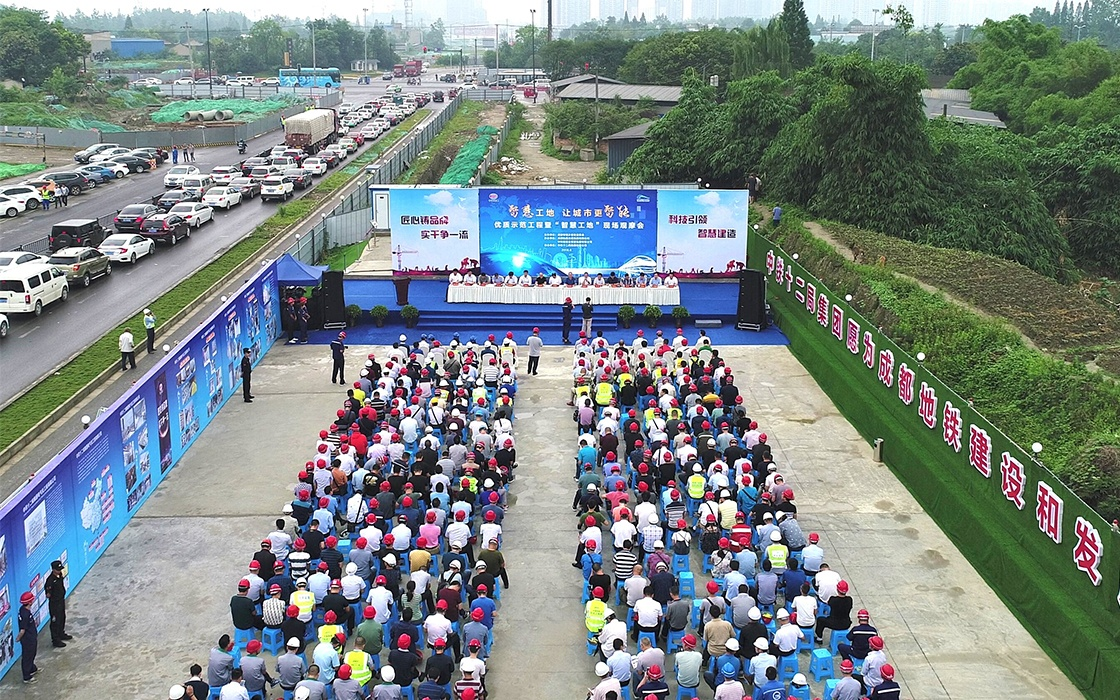blue: (720, 662, 737, 680), (475, 409, 484, 419), (478, 424, 487, 434), (419, 333, 428, 342), (427, 333, 435, 343)
none: (305, 663, 322, 681), (229, 665, 245, 683), (763, 665, 779, 682), (425, 666, 441, 683), (217, 633, 232, 651), (50, 560, 65, 576), (400, 606, 414, 623), (189, 663, 203, 680), (610, 638, 625, 653), (708, 604, 722, 620), (639, 635, 652, 652), (641, 584, 655, 599), (447, 579, 461, 594), (668, 584, 681, 600), (353, 635, 366, 651), (786, 556, 799, 570), (736, 582, 749, 596), (631, 563, 644, 577), (590, 561, 604, 574), (433, 481, 446, 495), (761, 558, 773, 573), (585, 497, 597, 512), (798, 583, 811, 596), (728, 559, 741, 572), (621, 538, 633, 552), (274, 518, 286, 532), (432, 462, 444, 475), (430, 496, 442, 509), (406, 579, 417, 593), (455, 490, 467, 502), (331, 458, 343, 470), (818, 562, 831, 573), (640, 490, 651, 503), (412, 464, 423, 477), (354, 457, 365, 470), (309, 518, 320, 531), (738, 448, 749, 460), (391, 465, 402, 477), (451, 434, 462, 445), (400, 451, 411, 462), (323, 485, 334, 496), (761, 450, 771, 461), (578, 438, 589, 448), (581, 423, 591, 434), (736, 409, 746, 420), (710, 348, 720, 359), (639, 339, 649, 350), (440, 449, 450, 460), (713, 451, 723, 461), (603, 426, 613, 436), (659, 387, 669, 397), (414, 451, 424, 461), (371, 464, 381, 474), (670, 409, 679, 420), (721, 405, 730, 416), (346, 388, 355, 399), (242, 347, 251, 358), (595, 329, 604, 339), (697, 329, 706, 338), (675, 350, 684, 359), (583, 398, 591, 408), (424, 439, 432, 449), (702, 338, 710, 347), (617, 338, 625, 347), (662, 337, 670, 346), (412, 341, 420, 350), (396, 378, 404, 387), (455, 397, 463, 405), (392, 341, 399, 350)
red: (866, 635, 884, 653), (878, 663, 895, 682), (395, 632, 412, 650), (18, 591, 35, 609), (337, 663, 353, 682), (680, 634, 697, 651), (246, 639, 263, 656), (322, 609, 338, 626), (285, 604, 301, 620), (704, 579, 719, 596), (780, 487, 795, 504), (331, 632, 346, 649), (433, 598, 448, 615), (839, 658, 853, 676), (647, 663, 661, 681), (471, 606, 485, 624), (467, 638, 481, 656), (483, 509, 498, 525), (271, 560, 286, 576), (237, 578, 251, 595), (433, 636, 447, 653), (363, 604, 376, 622), (414, 535, 429, 550), (856, 608, 870, 624), (590, 585, 604, 601), (374, 573, 388, 589), (329, 577, 342, 594), (807, 531, 821, 546), (382, 533, 396, 548), (354, 535, 368, 550), (836, 580, 849, 596), (716, 535, 729, 551), (268, 583, 281, 599), (476, 583, 489, 599), (636, 462, 650, 476), (453, 509, 467, 523), (367, 497, 381, 511), (247, 560, 261, 574), (737, 535, 750, 550), (584, 538, 597, 553), (704, 512, 717, 527), (733, 510, 746, 524), (759, 491, 772, 505), (487, 491, 500, 505), (364, 513, 377, 527), (297, 488, 310, 502), (316, 560, 329, 574), (618, 507, 630, 522), (676, 517, 688, 532), (293, 537, 305, 552), (584, 515, 597, 528), (604, 450, 617, 463), (316, 442, 329, 455), (396, 514, 409, 527), (324, 535, 337, 548), (487, 536, 500, 549), (425, 511, 437, 525), (379, 480, 391, 494), (740, 475, 752, 488), (740, 462, 752, 475), (668, 489, 680, 502), (338, 443, 351, 455), (376, 454, 388, 467), (486, 457, 498, 470), (459, 477, 471, 490), (297, 470, 309, 483), (318, 496, 330, 509), (637, 481, 649, 493), (390, 431, 402, 443), (773, 473, 784, 486), (614, 479, 625, 492), (700, 419, 711, 432), (757, 431, 768, 444), (474, 439, 485, 452), (502, 438, 513, 451), (260, 538, 271, 551), (704, 490, 715, 502), (712, 463, 723, 475), (609, 465, 621, 476), (662, 451, 673, 463), (641, 449, 652, 461), (686, 452, 698, 463), (582, 461, 593, 473), (719, 421, 730, 433), (628, 421, 639, 433), (318, 429, 329, 441), (465, 451, 476, 463), (462, 465, 474, 476), (403, 482, 414, 494), (304, 460, 315, 472), (402, 495, 412, 508), (633, 439, 644, 450), (748, 420, 759, 431), (646, 398, 657, 409), (668, 398, 679, 409), (598, 373, 609, 384), (335, 408, 346, 419), (379, 420, 390, 431), (328, 423, 339, 434), (728, 436, 738, 448), (734, 394, 744, 406), (389, 407, 399, 419), (373, 433, 383, 445), (316, 458, 326, 470), (666, 479, 677, 489), (659, 438, 669, 449), (682, 435, 692, 446), (627, 408, 637, 419), (688, 383, 698, 394), (714, 398, 724, 409), (607, 396, 617, 407), (620, 364, 630, 375), (675, 327, 685, 338), (476, 397, 486, 408), (350, 422, 360, 433), (360, 408, 370, 419), (339, 433, 349, 444), (645, 386, 655, 396), (682, 375, 692, 385), (575, 377, 585, 387), (639, 368, 649, 378), (677, 422, 686, 433), (652, 407, 661, 418), (701, 375, 710, 386), (723, 365, 732, 376), (615, 349, 624, 360), (596, 358, 605, 369), (420, 367, 429, 378), (394, 387, 403, 398), (410, 395, 419, 406), (343, 399, 352, 410), (695, 405, 704, 415), (680, 367, 690, 376), (690, 348, 699, 358), (577, 358, 586, 368), (596, 339, 605, 349), (623, 377, 632, 387), (487, 333, 496, 343), (408, 352, 417, 362), (501, 396, 510, 406), (399, 367, 408, 377), (403, 408, 412, 418), (390, 399, 400, 408), (299, 296, 308, 306), (725, 375, 733, 386), (432, 339, 440, 350), (654, 360, 663, 369), (501, 360, 510, 369), (457, 388, 466, 397), (367, 352, 376, 361), (377, 381, 386, 390), (353, 381, 362, 390), (385, 360, 394, 369), (414, 387, 423, 396), (433, 389, 442, 398), (660, 367, 668, 377), (636, 329, 644, 339), (580, 337, 588, 347), (532, 326, 540, 336), (505, 330, 513, 340), (447, 350, 455, 360), (462, 364, 470, 374), (338, 331, 346, 341), (703, 366, 711, 375), (656, 349, 664, 358), (578, 330, 586, 339), (488, 357, 496, 366), (466, 350, 474, 359), (287, 296, 295, 305), (503, 368, 511, 376), (464, 357, 472, 365), (681, 338, 688, 347)
white: (745, 604, 762, 624), (752, 636, 770, 654), (379, 664, 395, 684), (594, 660, 610, 679), (285, 636, 301, 655), (167, 684, 186, 700), (776, 606, 791, 626), (724, 637, 739, 656), (461, 660, 476, 678), (293, 575, 308, 591), (602, 607, 616, 623), (382, 553, 396, 569), (769, 529, 782, 545), (652, 538, 665, 554), (344, 562, 358, 576), (774, 509, 787, 524), (646, 512, 659, 527), (450, 540, 463, 554), (449, 559, 462, 573), (654, 561, 669, 573), (475, 558, 487, 573), (719, 488, 731, 502), (762, 511, 774, 524), (585, 482, 597, 495), (691, 462, 703, 475), (705, 437, 717, 450), (715, 478, 728, 490), (283, 503, 294, 517), (766, 462, 778, 474), (482, 478, 494, 490), (602, 407, 613, 418), (475, 377, 485, 388), (448, 422, 458, 433), (359, 368, 369, 379), (424, 425, 434, 436), (451, 407, 460, 419), (501, 375, 511, 385), (362, 397, 372, 407), (398, 333, 407, 344), (439, 379, 448, 390), (500, 423, 509, 434), (423, 356, 432, 367), (381, 366, 390, 377), (483, 340, 492, 350), (465, 341, 474, 351), (449, 339, 458, 349), (499, 387, 508, 397), (364, 359, 373, 369), (143, 307, 152, 317), (502, 338, 510, 347)
yellow: (429, 396, 439, 407)
